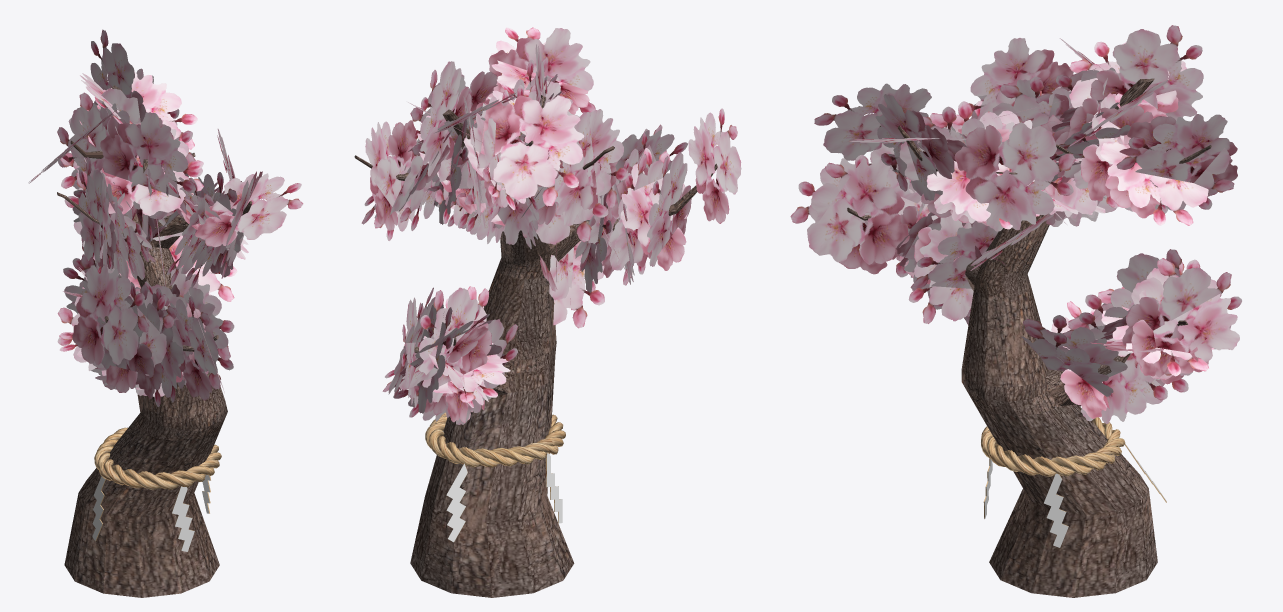
File: blossomtree.fbx
The picture shows the model from 3 angles, left to right: view 1: azimuth 30°, elevation 25°; view 2: azimuth 150°, elevation 25°; view 3: azimuth 270°, elevation 25°; orthographic projection. The views are drawn at different scales.
Visible parts, largest first — view 1: pCylinder3, pCylinder3|Plane|Dupli|49, pCylinder3|Plane|Dupli|82, pCube3, pCylinder3|Plane|Dupli|47, pCylinder3|Plane|Dupli|70, pCylinder3|Plane|Dupli|33, pCylinder3|Plane|Dupli|81, pCylinder3|Plane|Dupli|73, pCylinder3|Plane|Dupli|25, pCylinder3|Plane|Dupli|62, pCylinder3|Plane|Dupli|27 (+18 smaller); view 2: pCylinder3, pCylinder3|Plane|Dupli|34, pCube3, pCylinder3|Plane|Dupli|49, pCylinder3|Plane|Dupli|68, pCylinder3|Plane|Dupli|48, pCylinder3|Plane|Dupli|25, pCylinder3|Plane|Dupli|62, pCylinder3|Plane|Dupli|61, pCylinder3|Plane|Dupli|73, pCylinder3|Plane|Dupli|45, pCylinder3|Plane|Dupli|76 (+29 smaller); view 3: pCylinder3, pCylinder3|Plane|Dupli|79, pCylinder3|Plane|Dupli|71, pCylinder3|Plane|Dupli|25, pCylinder3|Plane|Dupli|46, pCylinder3|Plane|Dupli|64, pCube3, pCylinder3|Plane|Dupli|49, pCylinder3|Plane|Dupli|48, pCylinder3|Plane|Dupli|82, pCylinder3|Plane|Dupli|67, pCylinder3|Plane|Dupli|43 (+24 smaller).
Boxes of the visible parts, box(x1,y1,x2,y2) form: pCylinder3: box(57, 85, 252, 597); pCylinder3|Plane|Dupli|49: box(72, 264, 149, 365); pCylinder3|Plane|Dupli|82: box(100, 112, 195, 219); pCube3: box(92, 427, 221, 551); pCylinder3|Plane|Dupli|47: box(195, 173, 303, 247); pCylinder3|Plane|Dupli|70: box(170, 296, 218, 400); pCylinder3|Plane|Dupli|33: box(57, 107, 137, 189); pCylinder3|Plane|Dupli|81: box(102, 147, 203, 215); pCylinder3|Plane|Dupli|73: box(78, 157, 116, 269); pCylinder3|Plane|Dupli|25: box(90, 29, 145, 122); pCylinder3|Plane|Dupli|62: box(106, 291, 174, 392); pCylinder3|Plane|Dupli|27: box(79, 71, 197, 149); pCylinder3: box(354, 95, 717, 597); pCylinder3|Plane|Dupli|34: box(480, 95, 584, 206); pCube3: box(425, 412, 565, 542); pCylinder3|Plane|Dupli|49: box(688, 108, 741, 223); pCylinder3|Plane|Dupli|68: box(419, 287, 491, 402); pCylinder3|Plane|Dupli|48: box(488, 28, 595, 112); pCylinder3|Plane|Dupli|25: box(420, 61, 471, 176); pCylinder3|Plane|Dupli|62: box(620, 148, 687, 270); pCylinder3|Plane|Dupli|61: box(647, 152, 691, 266); pCylinder3|Plane|Dupli|73: box(548, 112, 617, 226); pCylinder3|Plane|Dupli|45: box(372, 120, 426, 240); pCylinder3|Plane|Dupli|76: box(543, 109, 627, 221); pCylinder3: box(847, 78, 1211, 597); pCylinder3|Plane|Dupli|79: box(954, 122, 1075, 231); pCylinder3|Plane|Dupli|71: box(790, 155, 909, 264); pCylinder3|Plane|Dupli|25: box(1090, 25, 1203, 119); pCylinder3|Plane|Dupli|46: box(1116, 114, 1237, 196); pCylinder3|Plane|Dupli|64: box(1131, 258, 1239, 384); pCube3: box(981, 417, 1166, 547); pCylinder3|Plane|Dupli|49: box(814, 83, 931, 160); pCylinder3|Plane|Dupli|48: box(875, 94, 954, 200); pCylinder3|Plane|Dupli|82: box(958, 38, 1073, 120); pCylinder3|Plane|Dupli|67: box(1122, 267, 1241, 375); pCylinder3|Plane|Dupli|43: box(1100, 135, 1208, 225).
Bounding box in the file's own units: 1150 × 2552 × 2071.
Materials: 3 (3 with a texture image).
